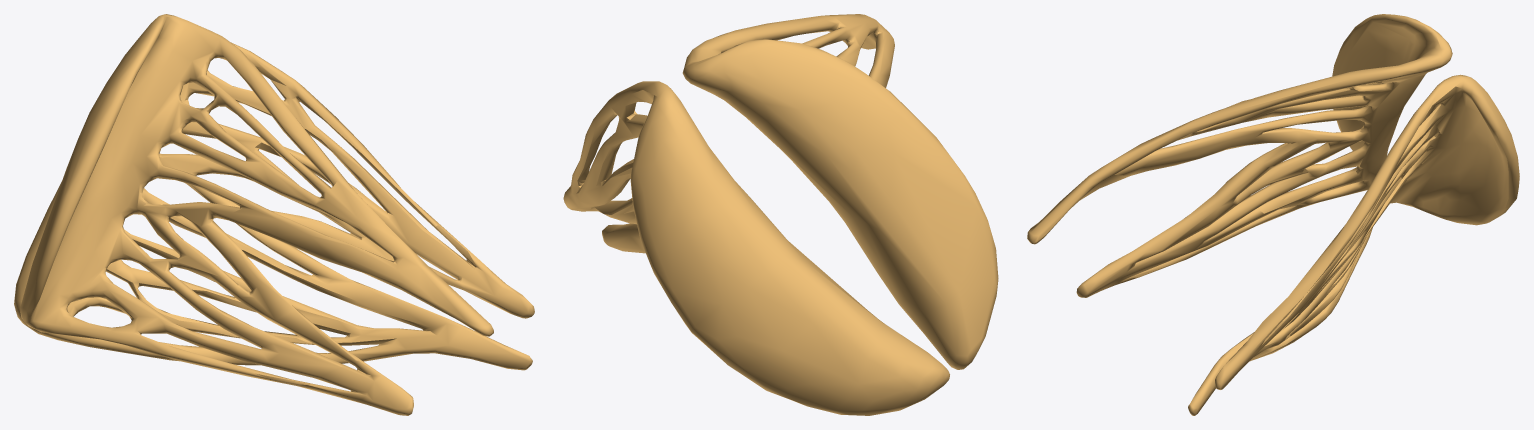
The model's file is valva-mitral.glb.
3 renders of one model, left to right at view 1: azimuth 30°, elevation 25°; view 2: azimuth 150°, elevation 25°; view 3: azimuth 270°, elevation 25°, orthographic. The views are drawn at different scales.
Parts seen in each view (by area): view 1: valva-mitral; view 2: valva-mitral; view 3: valva-mitral.
Part boxes in pixels (x1,y1,x2,y2): valva-mitral: (14,14,534,415); valva-mitral: (563,14,998,415); valva-mitral: (1027,14,1519,415).
Bounding box in the file's own units: 0.0511 × 0.0363 × 0.0561.
